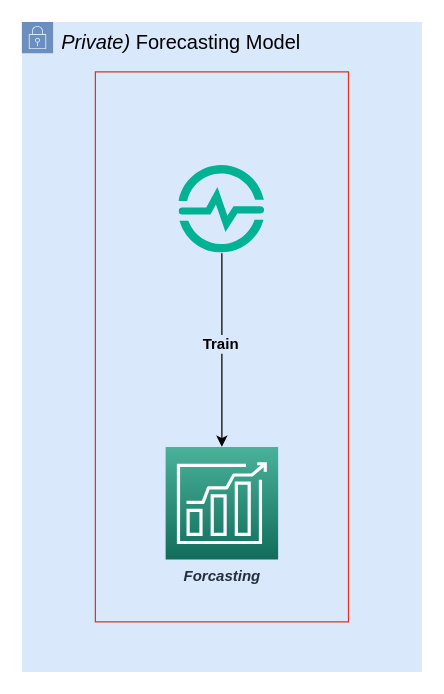
Some shapes in this 444 by 694 pixel diagram are drawn without their labels. The box of each missing label's shape, as (x1, y1, x2, y2) in pixels:
Network Data: (178, 165, 264, 252)
Security Train: (94, 71, 348, 622)
